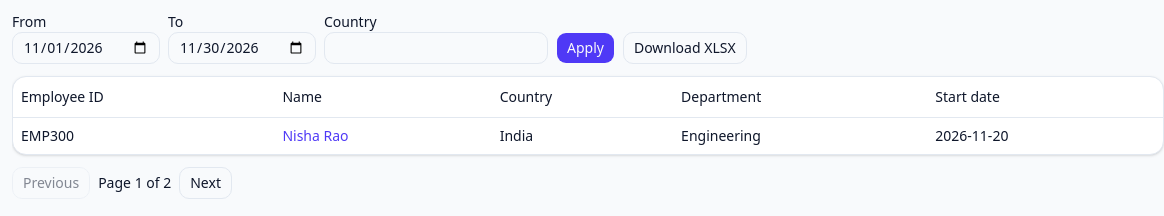
Test: JoinersReport › pages with Next and Previous, disabled at the ends
The width and height of the screenshot is (1164, 216).
Expected: the button "Previous" is disabled, x1=12 y1=166 x2=90 y2=198
What coordinates should you click on to do the following:
click the button "Next"
I would click on:
 (206, 182)
Its box is x1=179 y1=166 x2=232 y2=198.
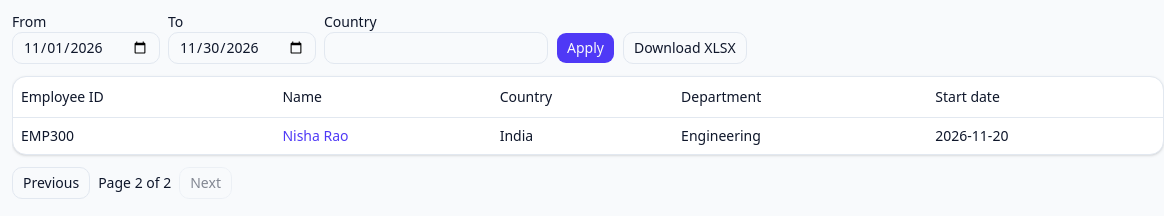
Result: the text "Page 2 of 2" is shown at x1=98 y1=172 x2=171 y2=192
Result: the button "Next" is disabled at x1=179 y1=166 x2=232 y2=198
